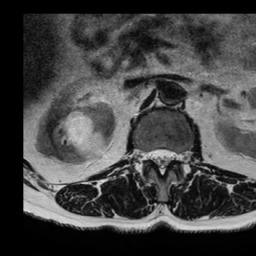CCS_normal: (158, 140, 166, 179)
LFS_normal: (175, 144, 185, 166)
LLS_normal: (166, 141, 175, 167)
RFS_normal: (139, 143, 148, 167)
RLS_normal: (148, 140, 158, 168)
